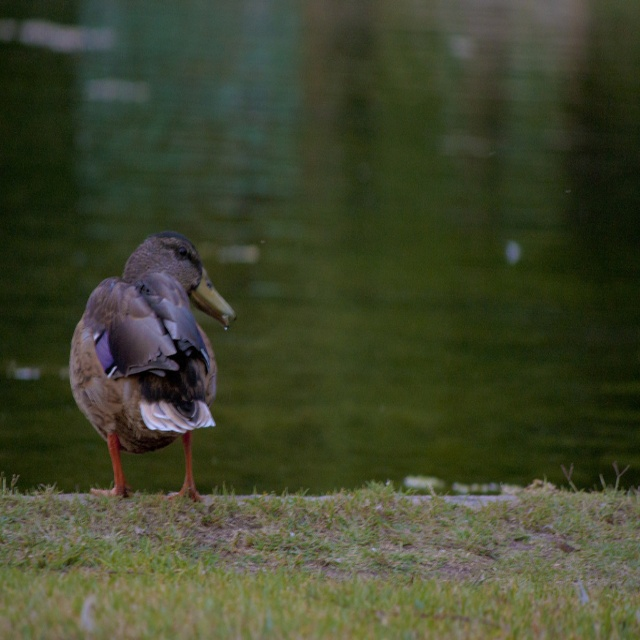Duck: (62, 224, 228, 505)
